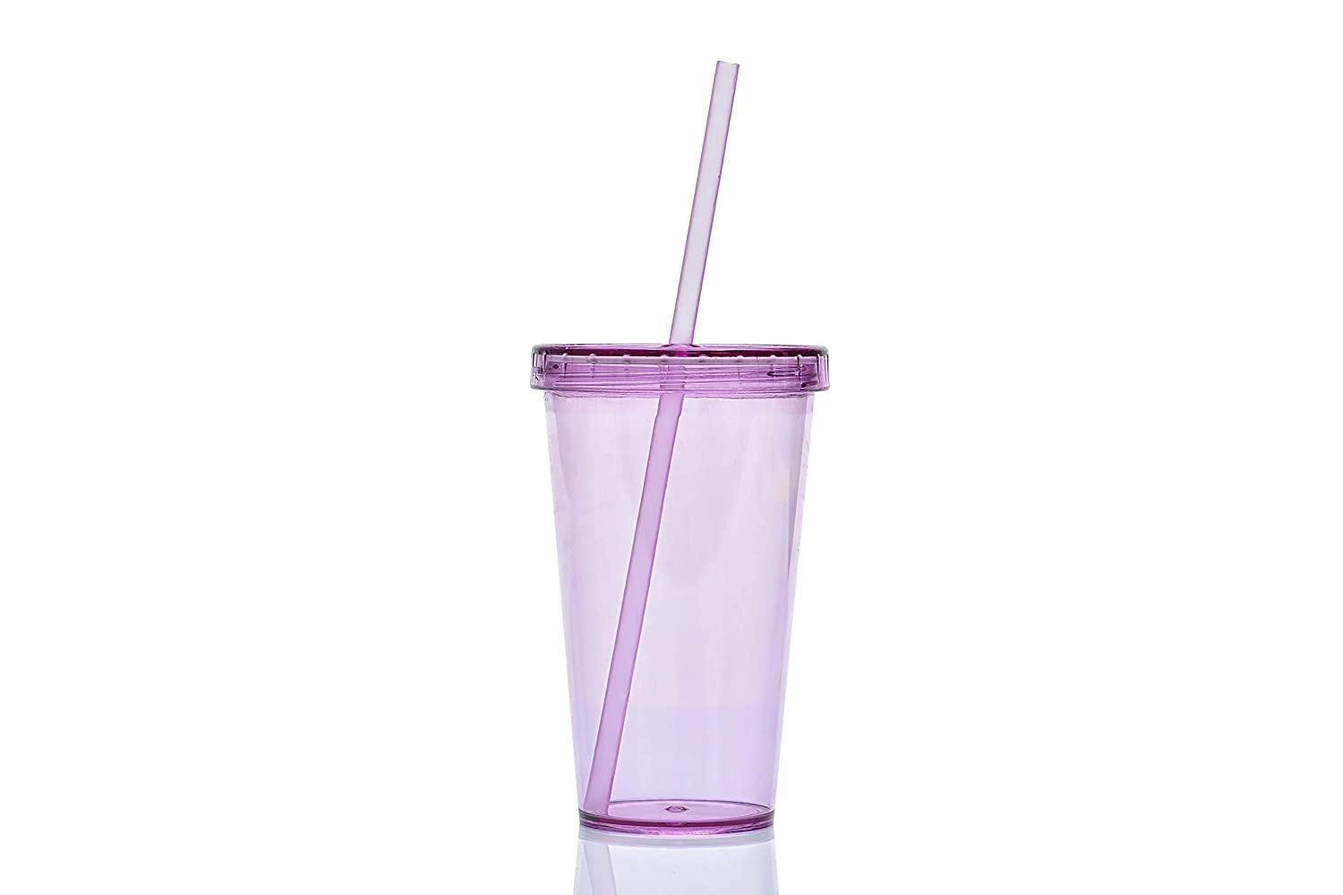cup-disposable: (526, 330, 834, 851)
